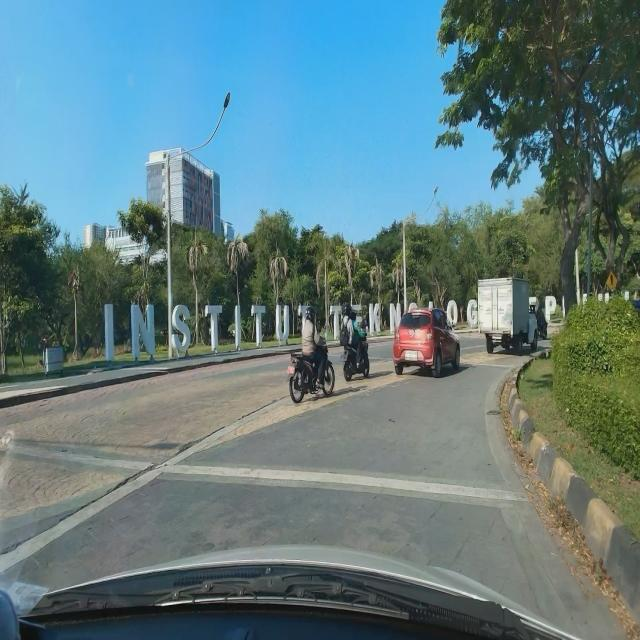car: (392, 307, 460, 376)
truck: (478, 276, 538, 354)
